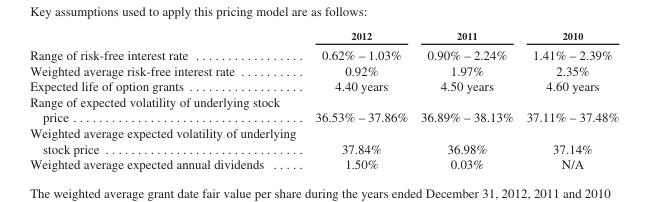table: (29, 29, 618, 170)
table column: (29, 29, 305, 170), (305, 29, 413, 170), (413, 29, 519, 170), (519, 29, 618, 170)
table column header: (29, 29, 618, 44)
table row: (29, 93, 618, 124), (29, 124, 618, 155), (29, 44, 618, 62), (29, 62, 618, 78), (29, 29, 618, 44), (29, 78, 618, 93), (29, 155, 618, 170)
